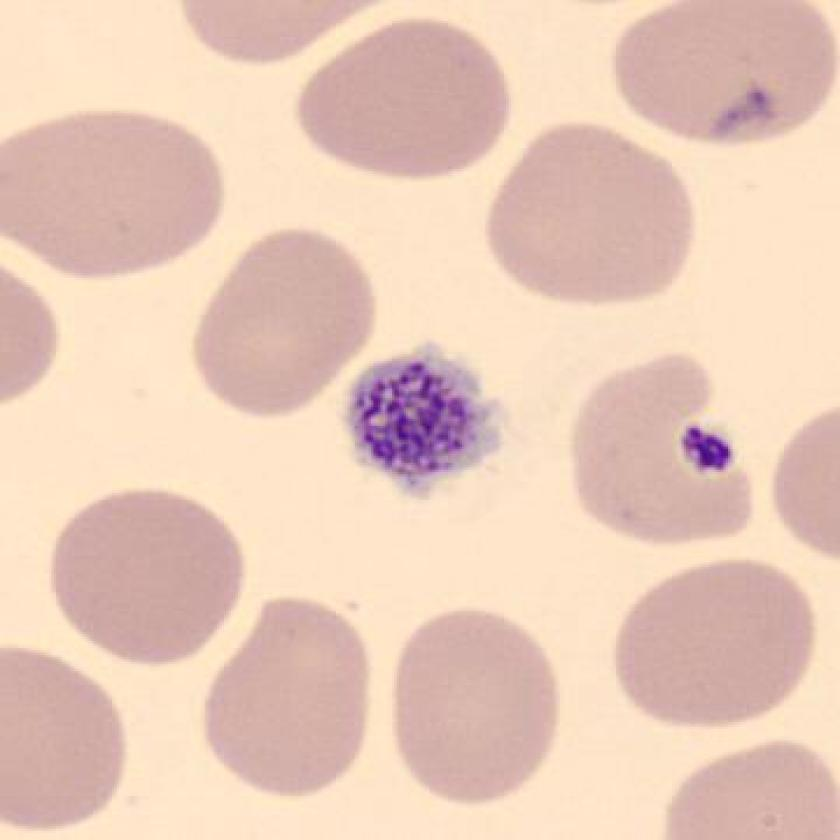platelets: (333, 330, 522, 513), (664, 413, 755, 496)
